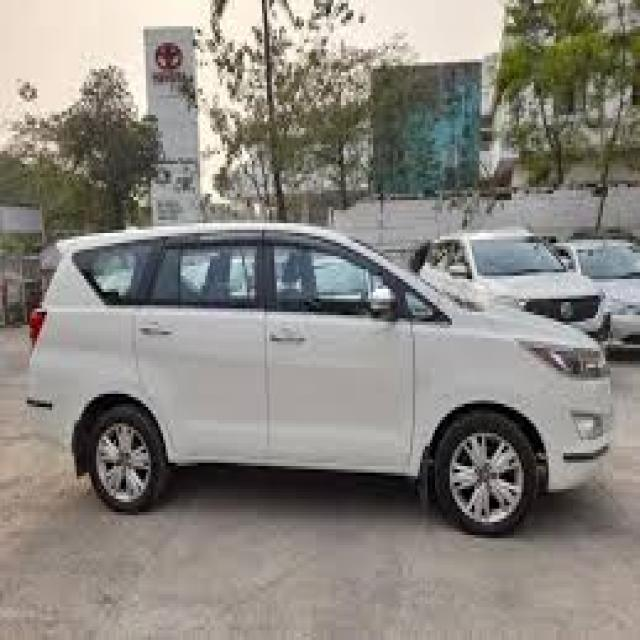light_vehicle: (26, 221, 613, 538)
